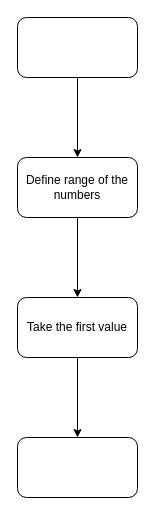
This 155x515 diagram has some shape labels left out. Here are the shapes that lost their labels. From the top down, the centre of each, then its label:
the point at 77,47: Start
the point at 77,467: Take the last value
